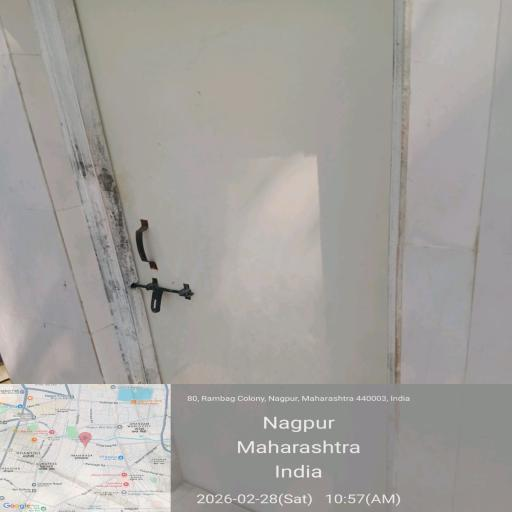clean_floor: (60, 102, 468, 414)
